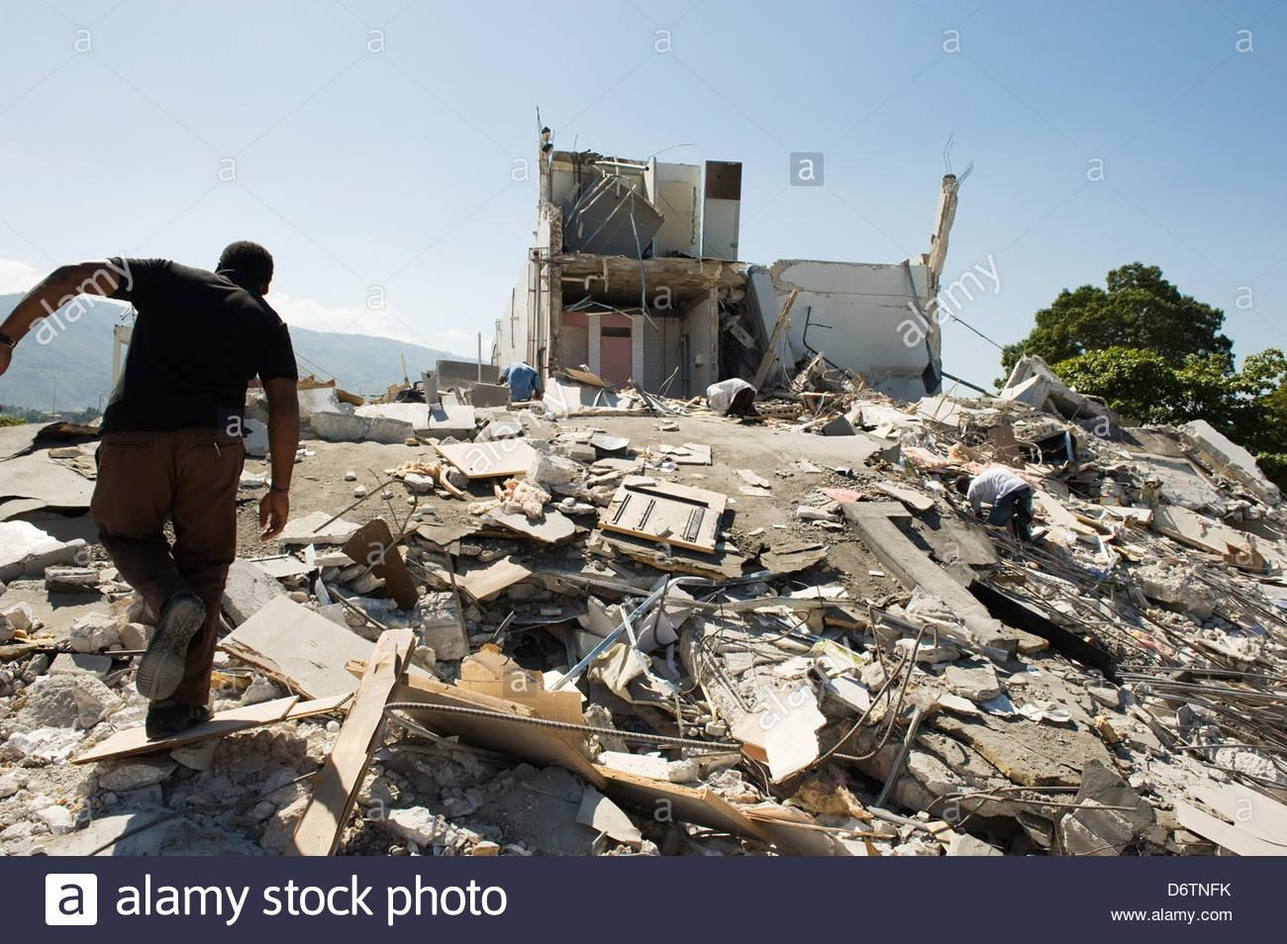victim: (6, 237, 304, 750)
